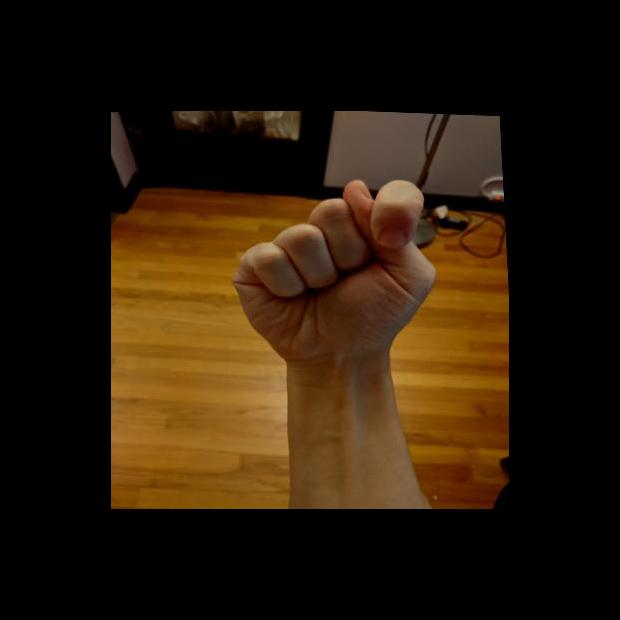S: (220, 164, 448, 378)
